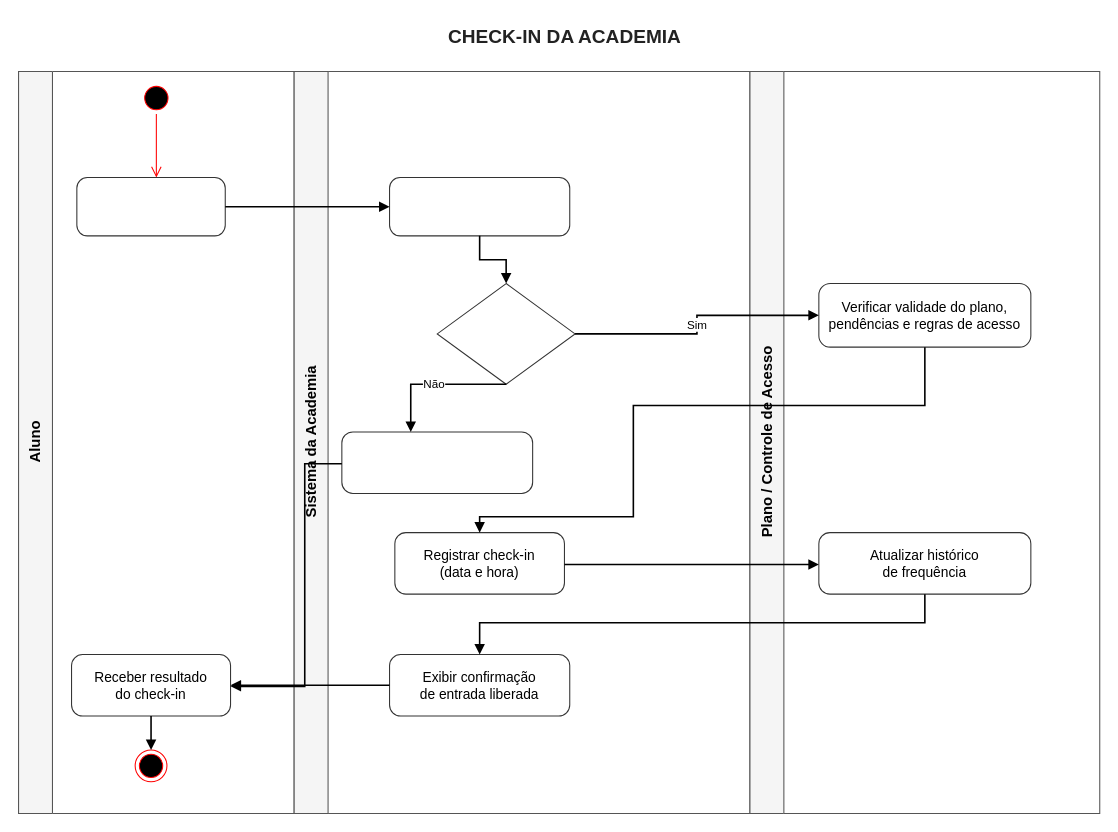
Some shapes in this 1118 by 832 pixel diagram are drawn without their labels. Here are the shapes that lost their labels. From the top down, the centre of each, then its label:
the point at 150,206: Solicitar check-in (identificar-se)
the point at 479,206: Consultar cadastro do aluno e plano
the point at 505,333: Plano ativo e check-in permitido?
the point at 437,462: Informar que o check-in não foi autorizado
